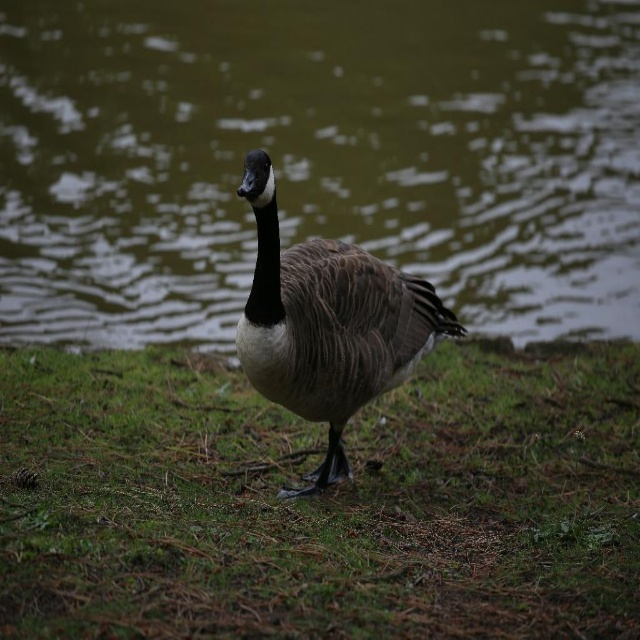Goose: (235, 151, 461, 495)
